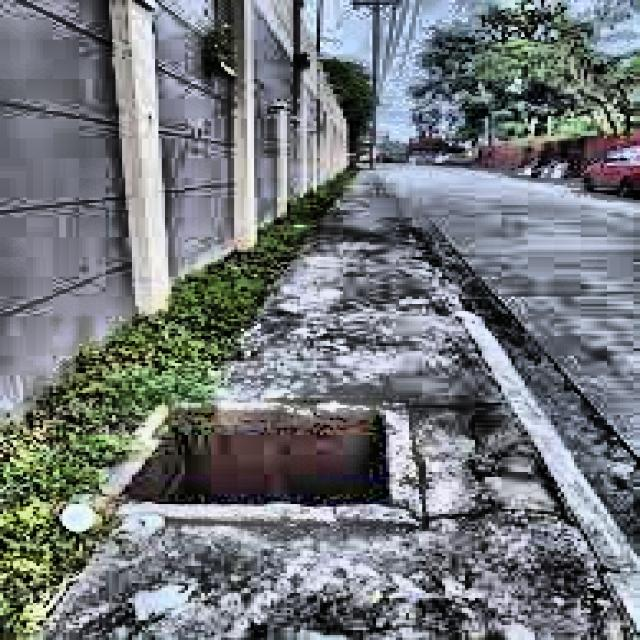open_manhole: (129, 400, 419, 519)
